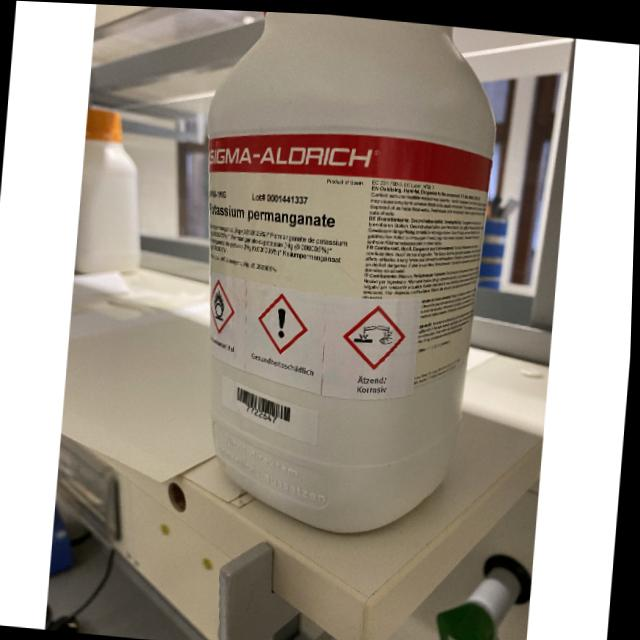corrosive: (355, 320, 396, 344)
health-ozone layer hazard: (277, 305, 289, 336)
oxidising: (215, 286, 228, 318)
